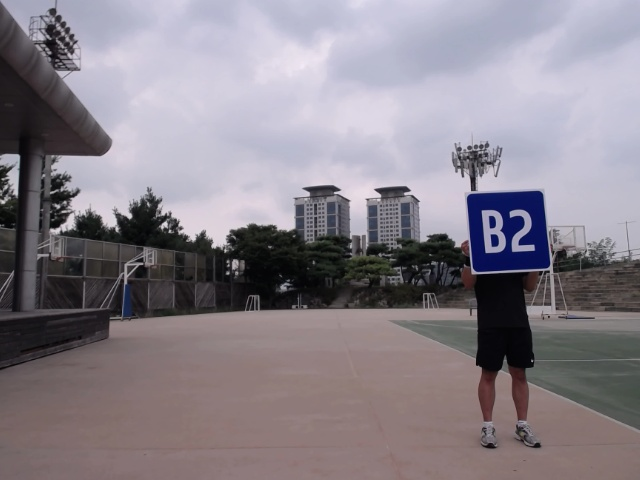delivery_b2: (463, 188, 554, 275)
